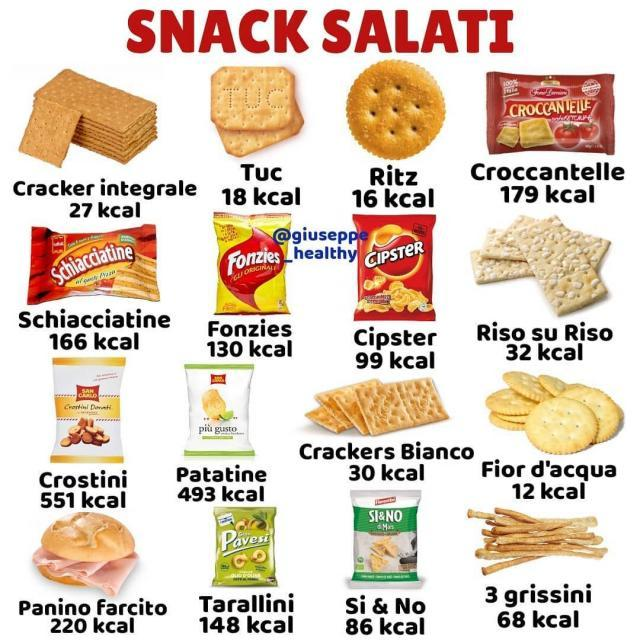Chips: (347, 211, 440, 327), (204, 206, 294, 314)
Chips packaged: (178, 362, 258, 457)
Cracker: (15, 63, 165, 174), (513, 214, 615, 316), (199, 63, 303, 135), (351, 378, 447, 432)
Grissini: (463, 505, 611, 577)
